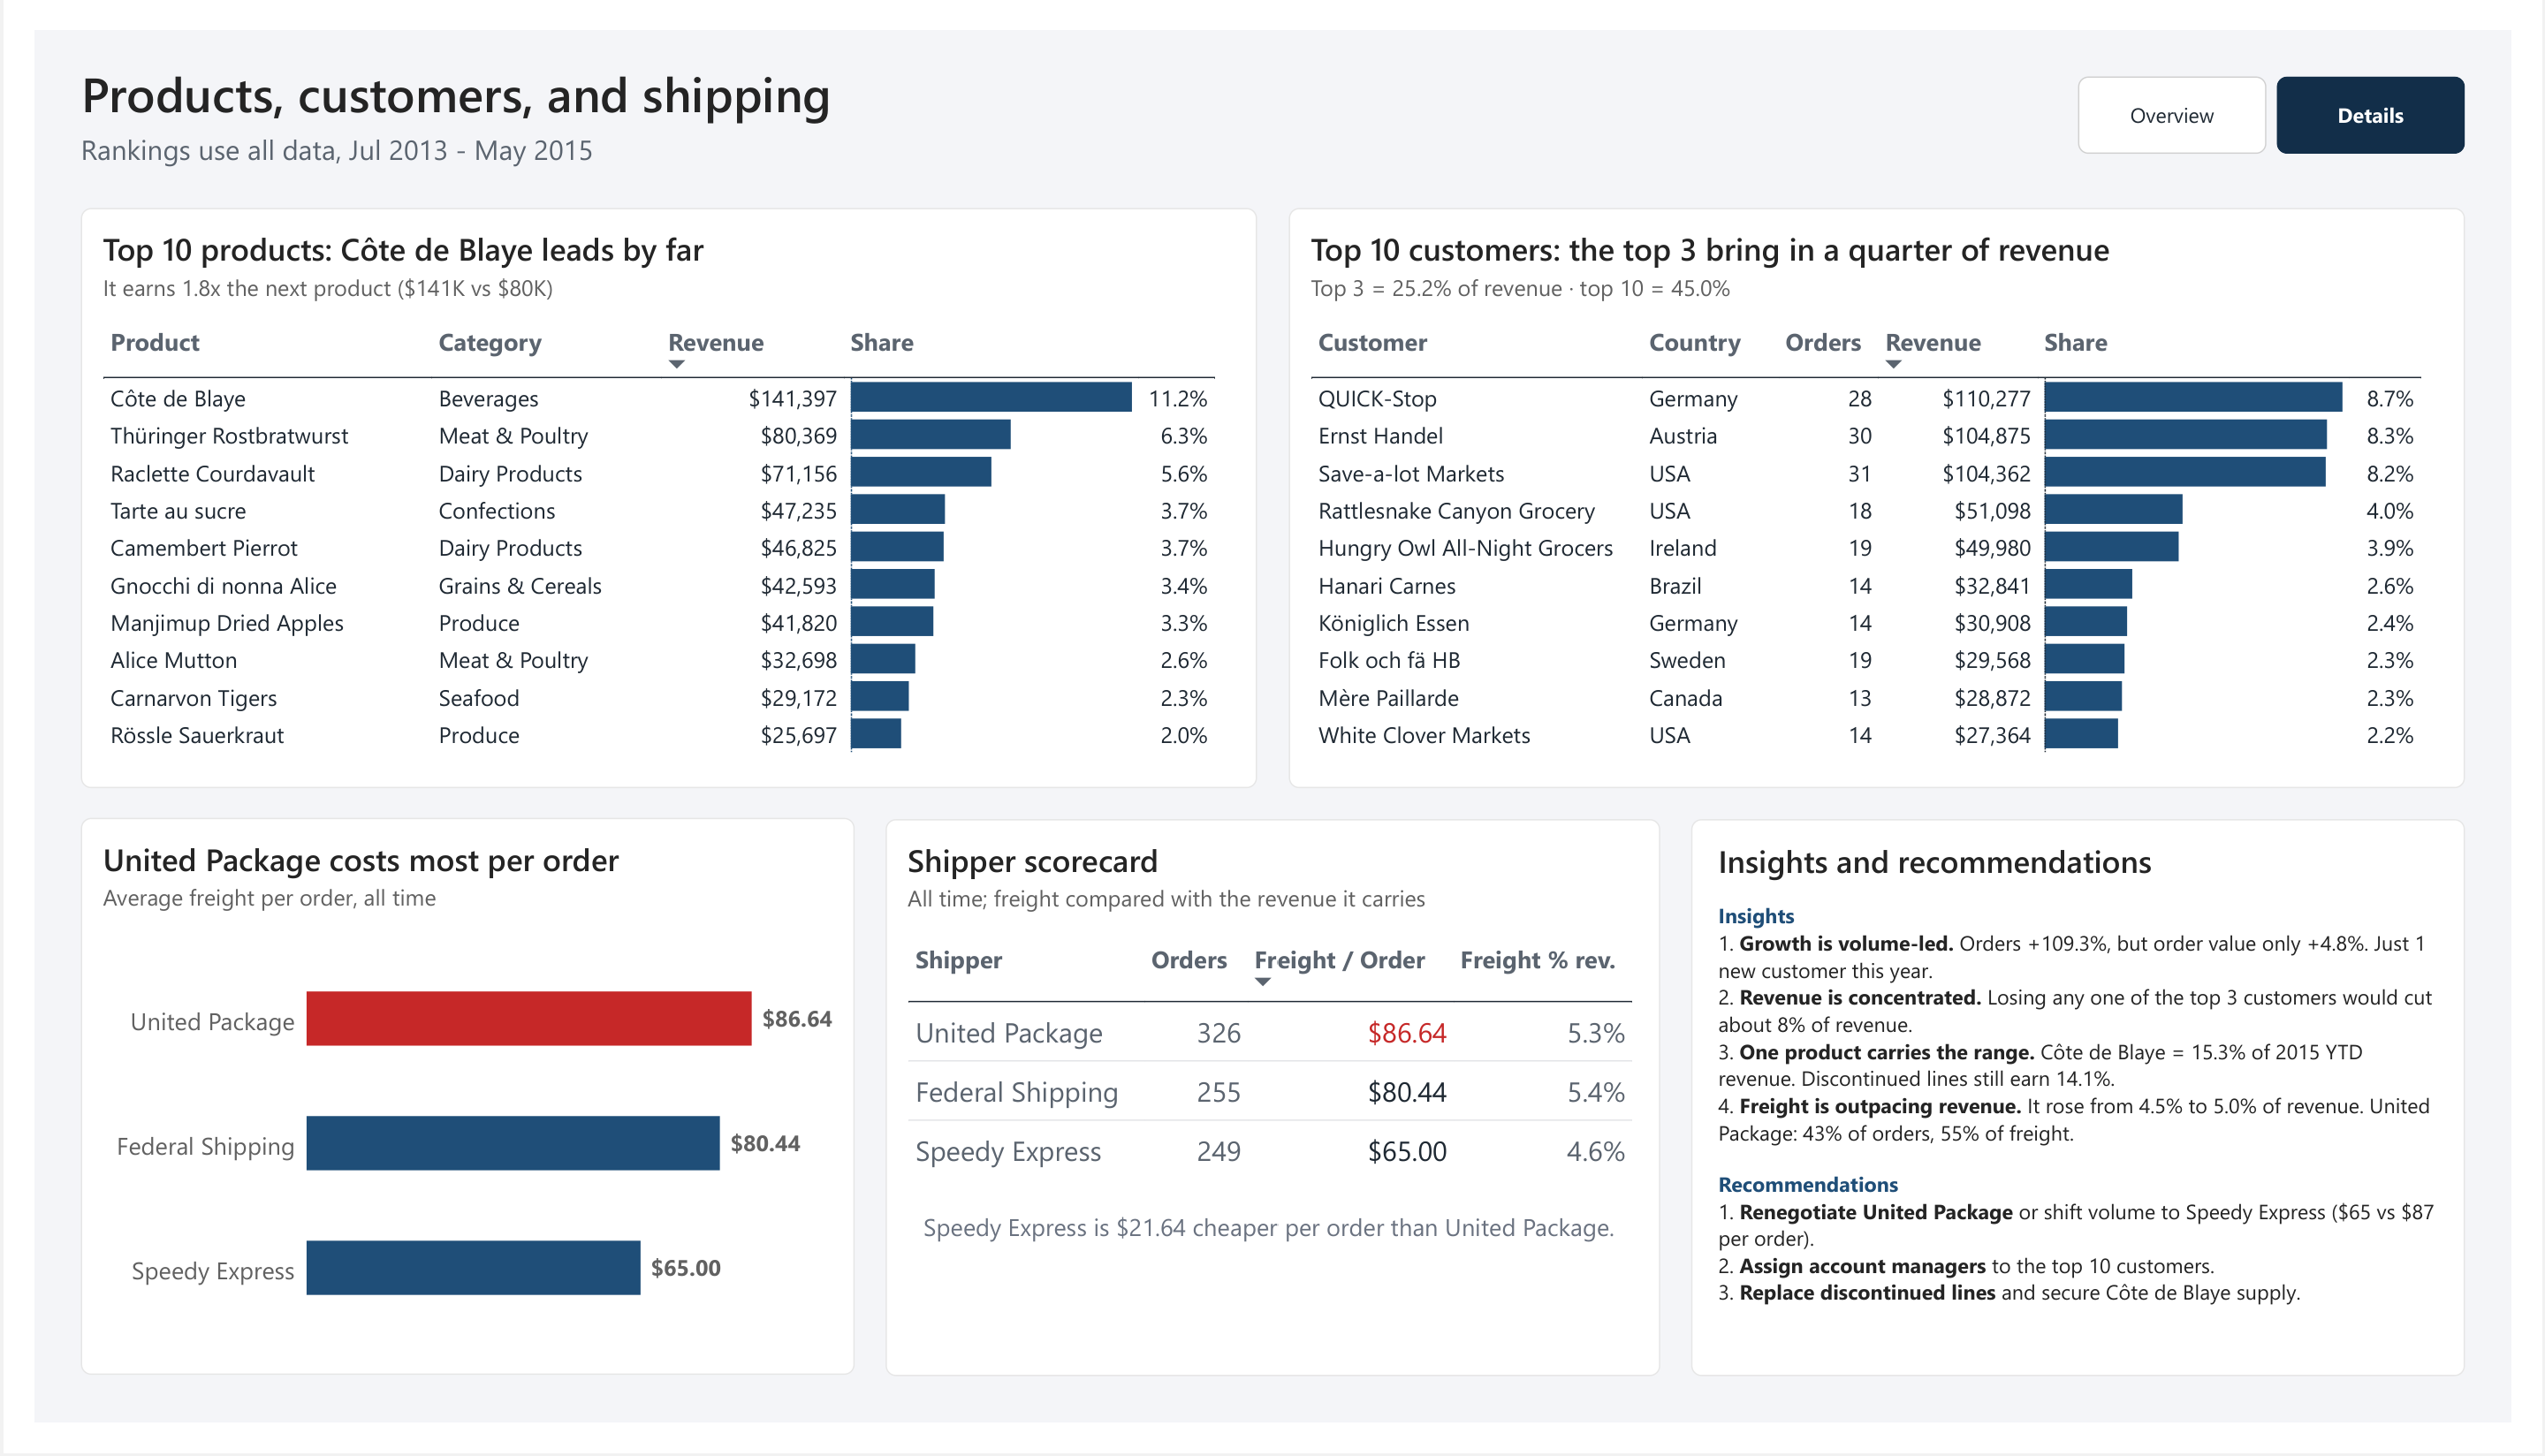

The dashboard page shown, as its layout file describes it:
{"tool":"powerbi","page":{"name":"Details","canvas":[1920,1080],"ordinal":1},"visuals":[{"type":"textbox","title":"Title","box":[36,24,1350,54],"z":0},{"type":"textbox","box":[36,78,1350,36],"z":1000},{"type":"pageNavigator","box":[1584,36,300,60],"z":2000},{"type":"tableEx","title":"Top 10 products: Côte de Blaye leads by far","fields":{"Values":["products.productName","categories.categoryName","_Measures.Revenue","_Measures.Product Revenue %","_Measures.Product Share Bar"]},"box":[36.3,138,912,450],"z":3000},{"type":"tableEx","title":"Top 10 customers: the top 3 bring in a quarter of revenue","fields":{"Values":["customers.companyName","customers.country","_Measures.Total Orders","_Measures.Revenue","_Measures.Customer Revenue %","_Measures.Customer Share Bar"]},"box":[972,138,912,450],"z":4000},{"type":"tableEx","title":"Shipper scorecard","fields":{"Values":["shippers.companyName","_Measures.Total Orders","_Measures.Freight per Order","_Measures.Freight % of Revenue"]},"box":[660,612,600,432],"z":5000},{"type":"textbox","title":"Insights and recommendations","box":[1284,612,600,432],"z":6000},{"type":"clusteredBarChart","title":"United Package costs most per order","fields":{"Category":["shippers.companyName"],"Y":["_Measures.Freight per Order"]},"box":[36,611.2,600,432],"z":7000},{"type":"textbox","box":[679,916,566,42],"z":8000}]}

Visuals, with their boxes in screenshot pixels (x1, y1, x2, y2), scaled from the page's 1920x1080 canvas onto the 2545x1456 screenshot:
"Title" textbox: (x1=48, y1=33, x2=1837, y2=105)
textbox: (x1=48, y1=105, x2=1837, y2=154)
pageNavigator: (x1=2100, y1=49, x2=2497, y2=129)
"Top 10 products: Côte de Blaye leads by far" tableEx: (x1=48, y1=186, x2=1257, y2=792)
"Top 10 customers: the top 3 bring in a quarter of revenue" tableEx: (x1=1288, y1=186, x2=2497, y2=792)
"Shipper scorecard" tableEx: (x1=875, y1=825, x2=1670, y2=1407)
"Insights and recommendations" textbox: (x1=1702, y1=825, x2=2497, y2=1407)
"United Package costs most per order" clusteredBarChart: (x1=48, y1=824, x2=843, y2=1407)
textbox: (x1=900, y1=1235, x2=1651, y2=1292)
